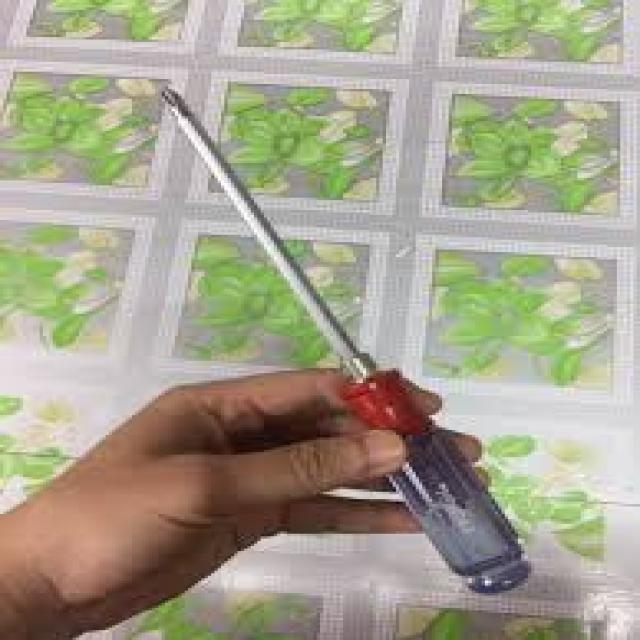screwdriver: (152, 83, 538, 597)
